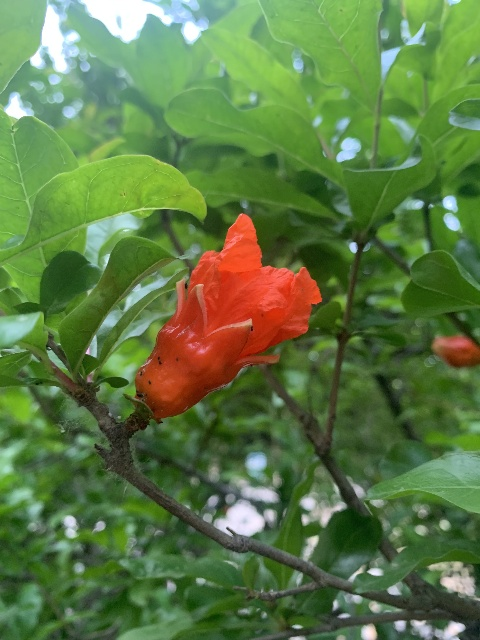bud: (431, 334, 480, 367)
flower: (136, 212, 322, 418)
